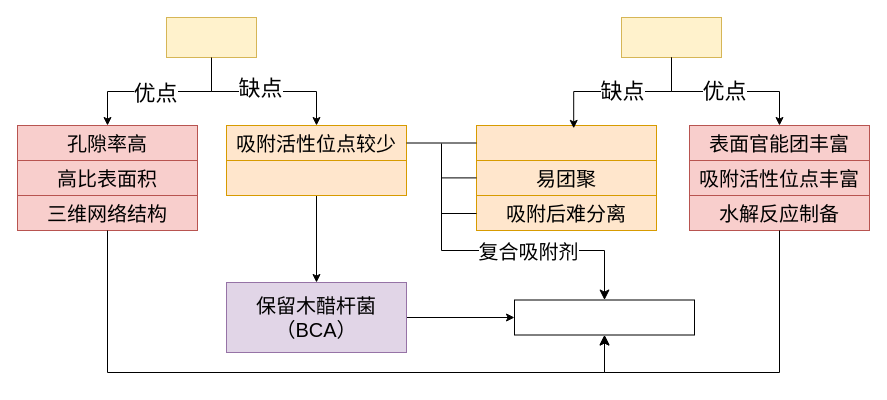
Some shapes in this 887 by 400 pixel diagram are drawn without their labels. The shapes that lost their labels are listed below. From the top down, each one's centre as x and y in pixels, then its label:
At point 211,37: "BC".
At point 671,37: "β-FeOOH".
At point 566,142: "稳定性差".
At point 316,178: "热碱处理污染环境".
At point 604,317: "BCA@FeOOH".
